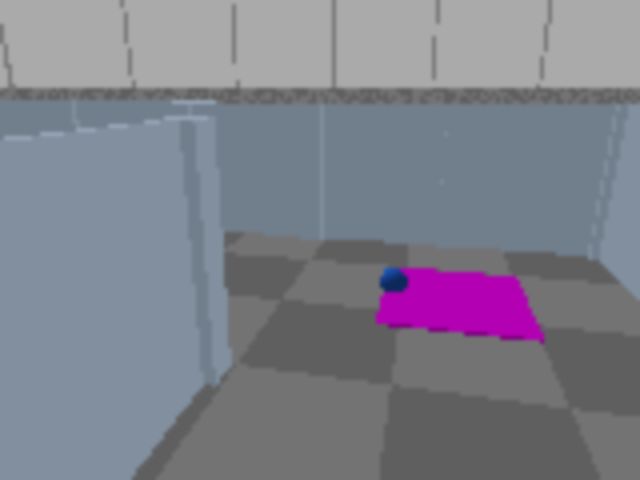goal_zone: (375, 266, 545, 343)
puck: (378, 263, 409, 300)
